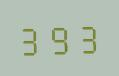nine: (46, 20, 72, 55)
three: (18, 21, 44, 56), (73, 19, 99, 54)
